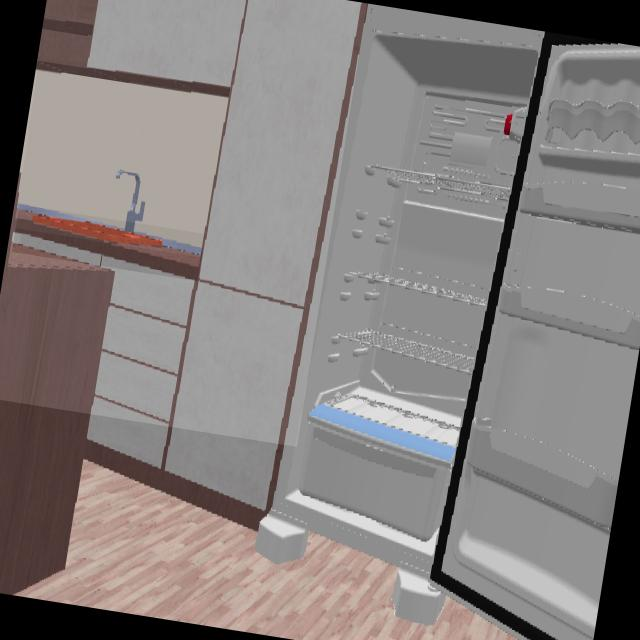cabinet: (9, 0, 362, 447)
countertop: (15, 220, 201, 280)
fridge: (274, 36, 640, 640)
sink: (19, 205, 201, 255)
